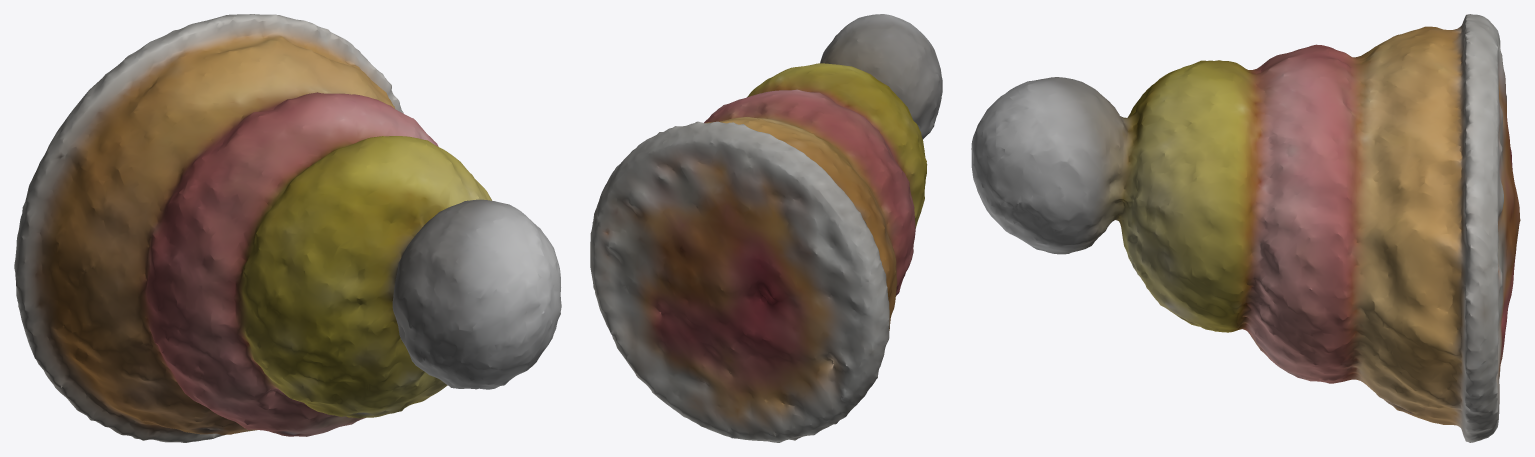
The model's file is chicken.glb.
3 views of the same model, side by side, from view 1: azimuth 30°, elevation 25°; view 2: azimuth 150°, elevation 25°; view 3: azimuth 270°, elevation 25° (orthographic). The views are drawn at different scales.
Size of the model in its own units: 0.7779 by 0.7762 by 0.9964.
